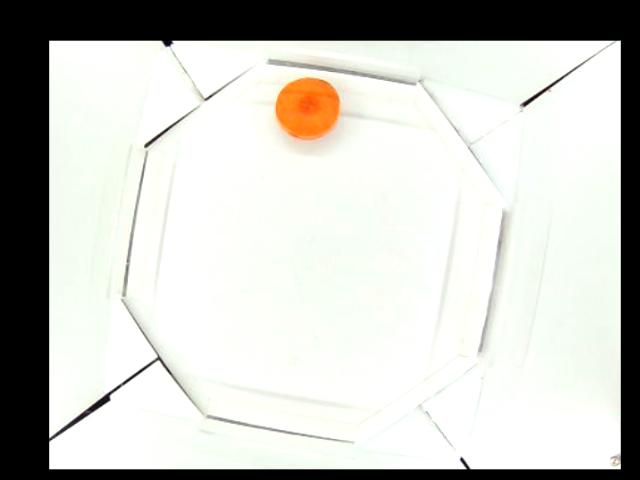Carrot: (273, 78, 340, 139)
